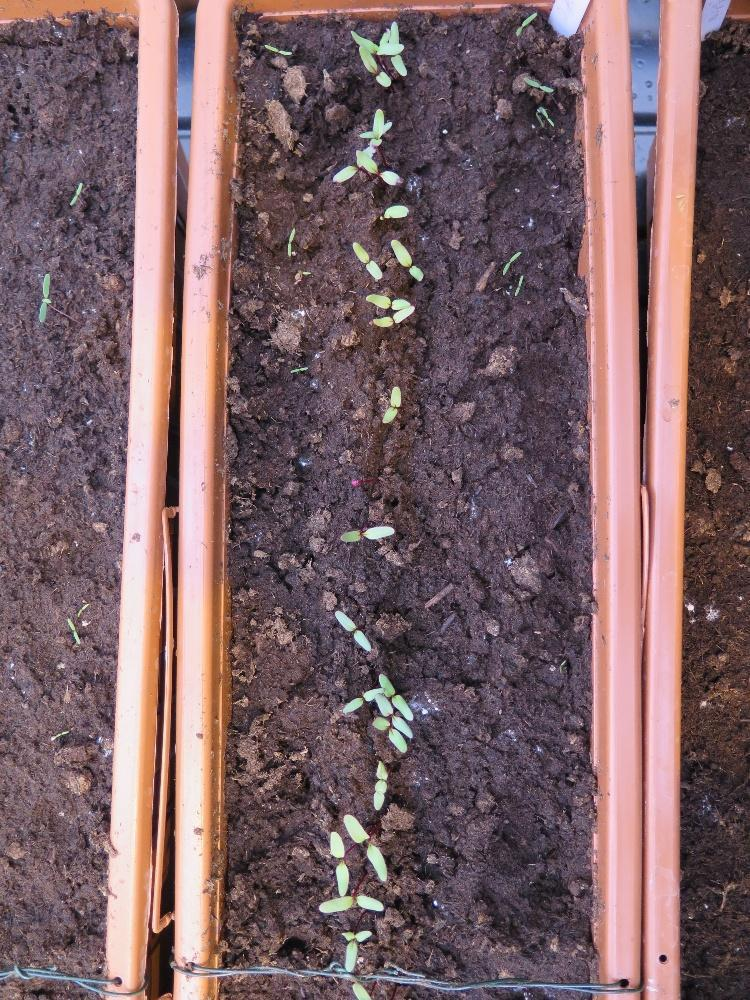crop: (333, 606, 371, 653), (338, 522, 394, 543), (379, 382, 400, 425)
weed: (37, 268, 50, 325), (522, 74, 553, 95), (513, 9, 537, 36), (501, 249, 520, 275), (262, 41, 292, 57), (68, 179, 82, 206), (286, 224, 294, 258), (513, 271, 522, 298), (288, 363, 308, 375)
